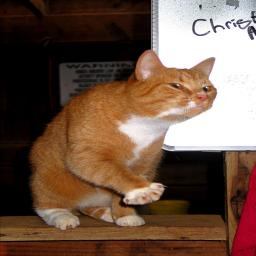catnose: (196, 93, 210, 103)
